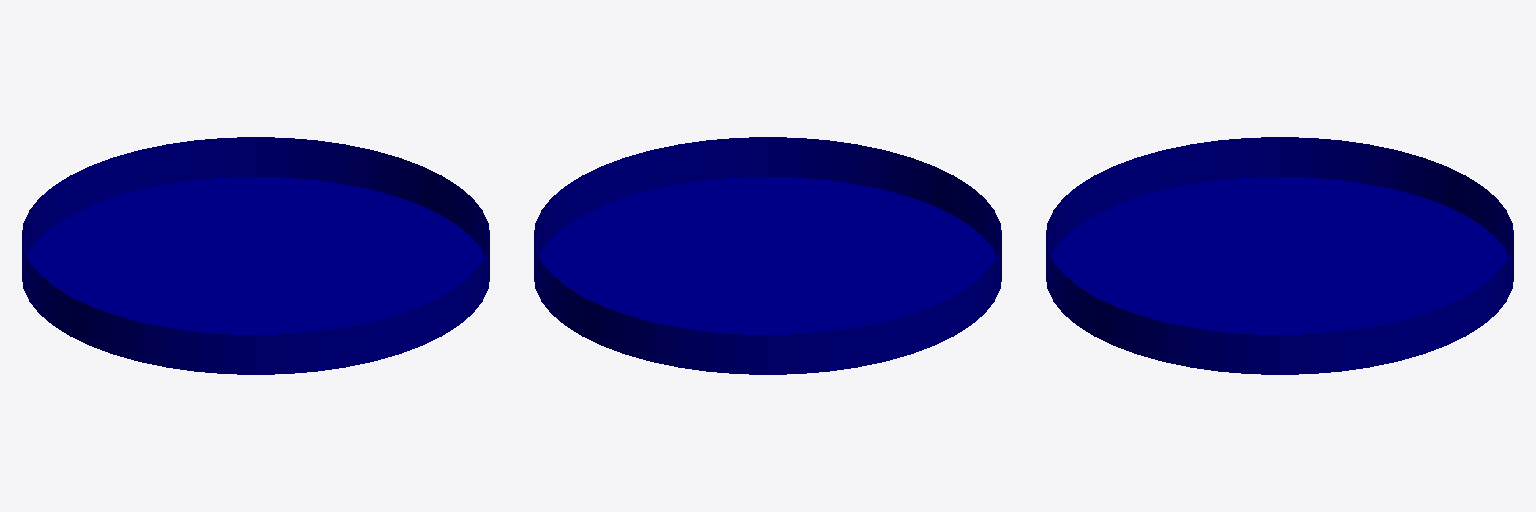
Rendered from board_play_position8.obj.
3 views of the same model, side by side, from view 1: azimuth 30°, elevation 25°; view 2: azimuth 150°, elevation 25°; view 3: azimuth 270°, elevation 25° (orthographic).
Visible parts, largest first — view 1: board.014_ID352; view 2: board.014_ID352; view 3: board.014_ID352.
Boxes of the visible parts, x1,y1,x2,y2 form: board.014_ID352: [22, 137, 489, 374]; board.014_ID352: [534, 137, 1001, 374]; board.014_ID352: [1046, 137, 1513, 374].
Bounding box in the file's own units: 1.26 × 0.1181 × 1.26.